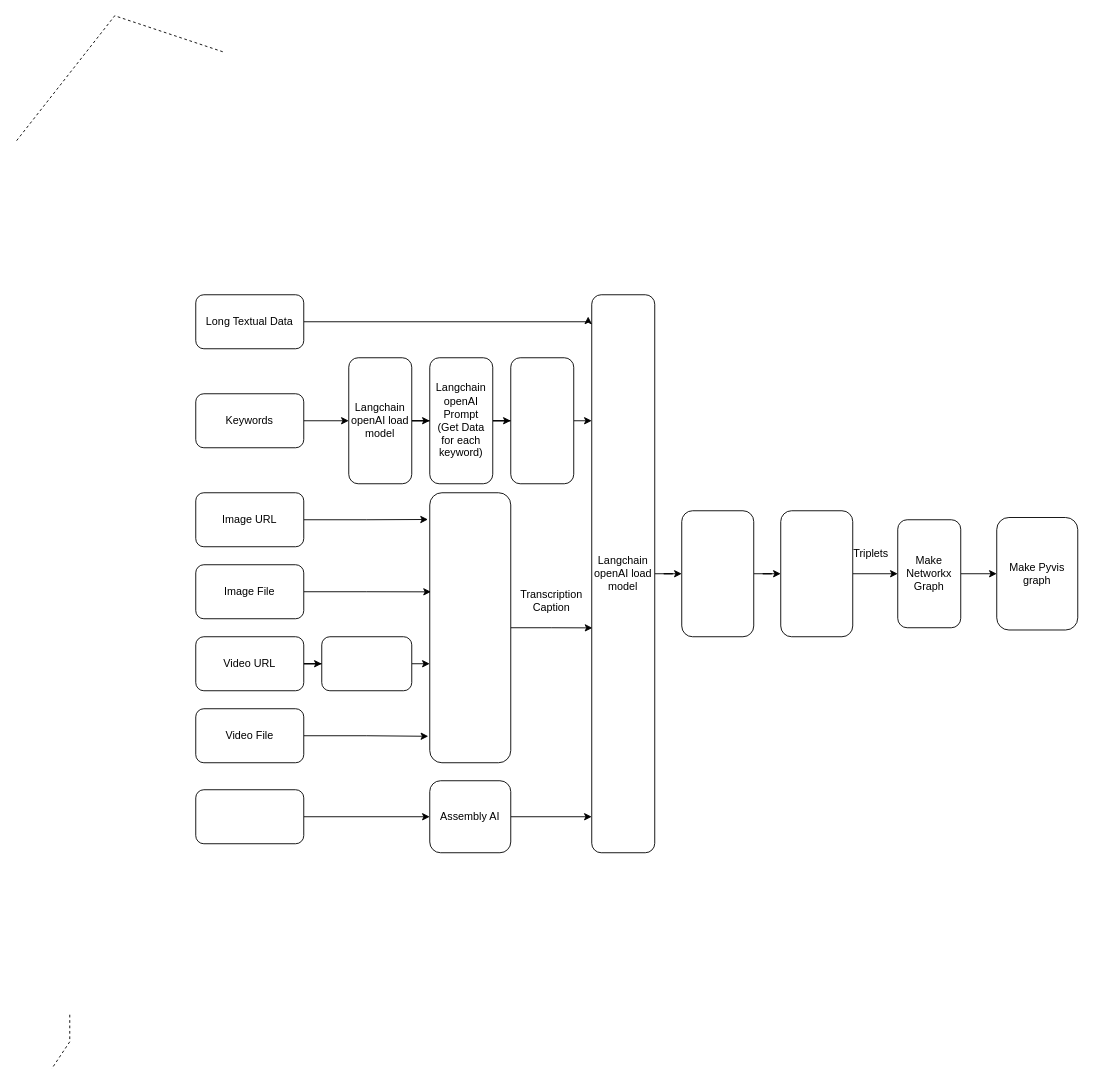
Some shapes in this 1094 by 1085 pixel diagram are drawn without their labels. Each missing label, with the centre of its shape:
"Audio File" goes at (249,816).
"Clarifai model" goes at (470,627).
"Concatenate all data" goes at (542,420).
"Download video" goes at (366,663).
"Langchain Extraction chain" goes at (816,573).
"Langchain openAI Prompt (Create entity relation triplets)" goes at (717,573).
